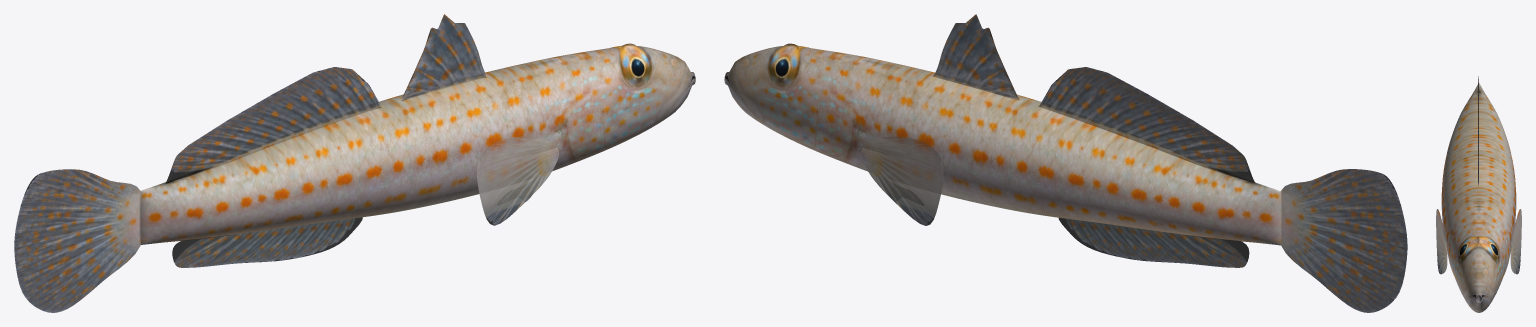
Rendered from goby.glb.
3 views of the same model, side by side, from view 1: azimuth 30°, elevation 25°; view 2: azimuth 150°, elevation 25°; view 3: azimuth 270°, elevation 25° (orthographic). The views are drawn at different scales.
Parts seen in each view (by area): view 1: goby__body, goby__fin_0, goby__fin_1, goby__fin_2, goby__pectoral_1, goby__gill_1, goby__eye_1; view 2: goby__body, goby__fin_0, goby__fin_1, goby__fin_2, goby__pectoral_-1, goby__gill_-1, goby__eye_-1; view 3: goby__body, goby__pectoral_1, goby__pectoral_-1, goby__eye_-1, goby__eye_1, goby__gill_1, goby__gill_-1, goby__fin_1.
Part boxes in pixels (x1,y1,x2,y2): goby__body: [140, 46, 695, 244]; goby__fin_0: [14, 169, 141, 312]; goby__fin_1: [165, 14, 488, 183]; goby__fin_2: [172, 217, 362, 267]; goby__pectoral_1: [477, 136, 558, 225]; goby__gill_1: [550, 98, 601, 169]; goby__eye_1: [620, 44, 650, 84]; goby__body: [724, 46, 1281, 245]; goby__fin_0: [1281, 169, 1407, 312]; goby__fin_1: [932, 14, 1255, 183]; goby__fin_2: [1058, 217, 1249, 267]; goby__pectoral_-1: [861, 136, 943, 225]; goby__gill_-1: [818, 98, 869, 170]; goby__eye_-1: [770, 44, 799, 84]; goby__body: [1441, 83, 1516, 312]; goby__pectoral_1: [1436, 209, 1447, 274]; goby__pectoral_-1: [1510, 209, 1521, 274]; goby__eye_-1: [1479, 237, 1499, 261]; goby__eye_1: [1458, 237, 1478, 261]; goby__gill_1: [1447, 224, 1453, 274]; goby__gill_-1: [1504, 224, 1510, 274]; goby__fin_1: [1478, 76, 1478, 186].
Size of the model in its own units: 1.23 by 0.3612 by 0.1814.
Materials: 5 (5 with a texture image).
